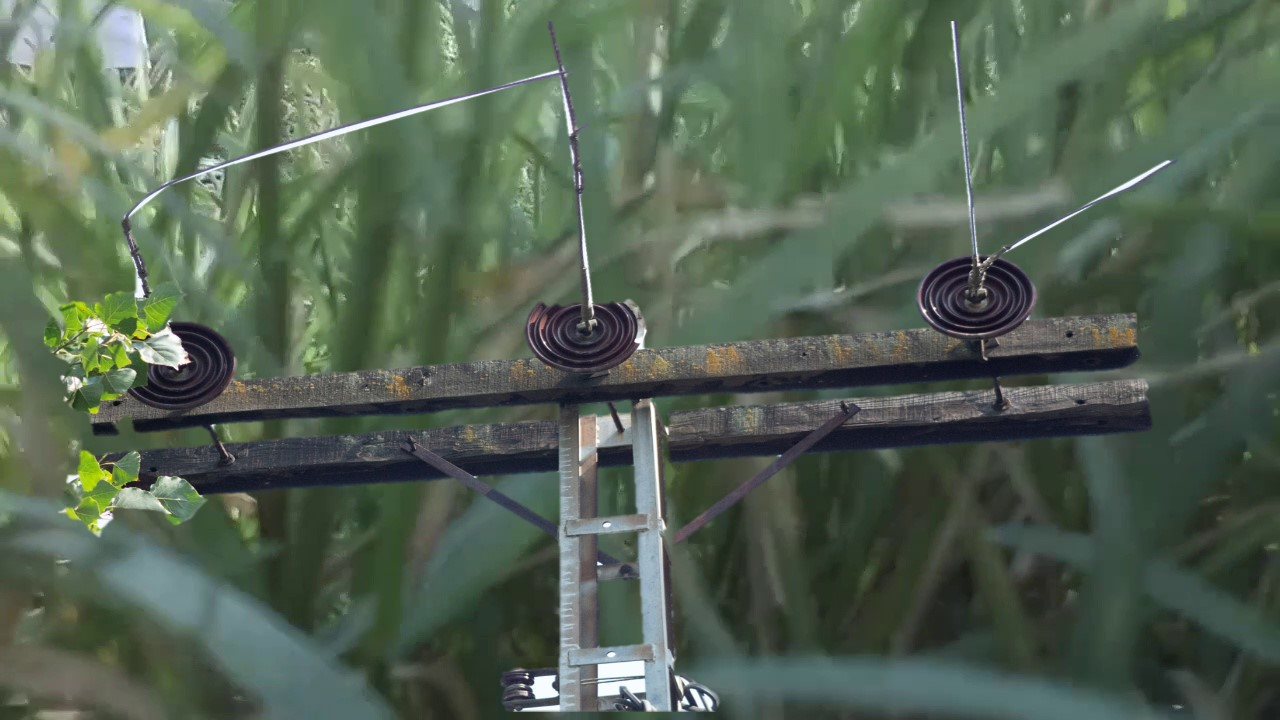defect_disc: (522, 292, 654, 376)
insulator_disc: (914, 252, 1040, 343), (153, 321, 241, 412)
